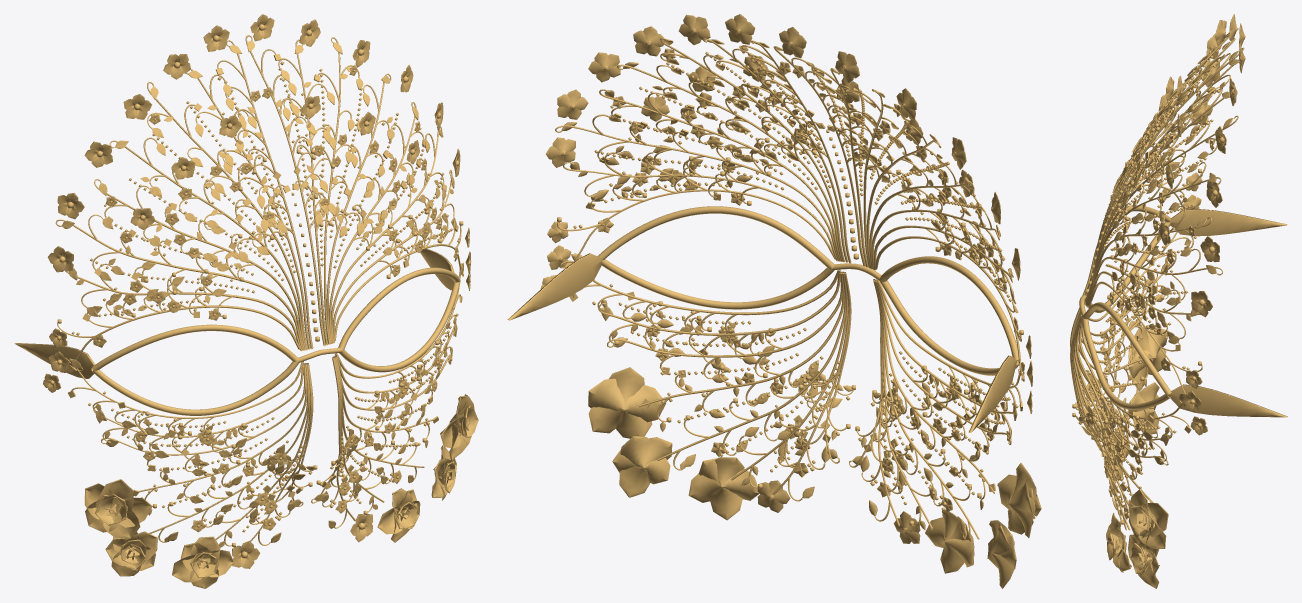
File: filigree-mask.glb
3 renders of one model, left to right at view 1: azimuth 30°, elevation 25°; view 2: azimuth 150°, elevation 25°; view 3: azimuth 270°, elevation 25°, orthographic. The views are drawn at different scales.
Parts seen in each view (by area): view 1: piece_Gold; view 2: piece_Gold; view 3: piece_Gold.
Part boxes in pixels (<box>): piece_Gold: <box>14,14,478,588</box>; piece_Gold: <box>507,14,1041,588</box>; piece_Gold: <box>1070,14,1287,588</box>.
Size of the model in its own units: 0.1757 by 0.1972 by 0.0789.
